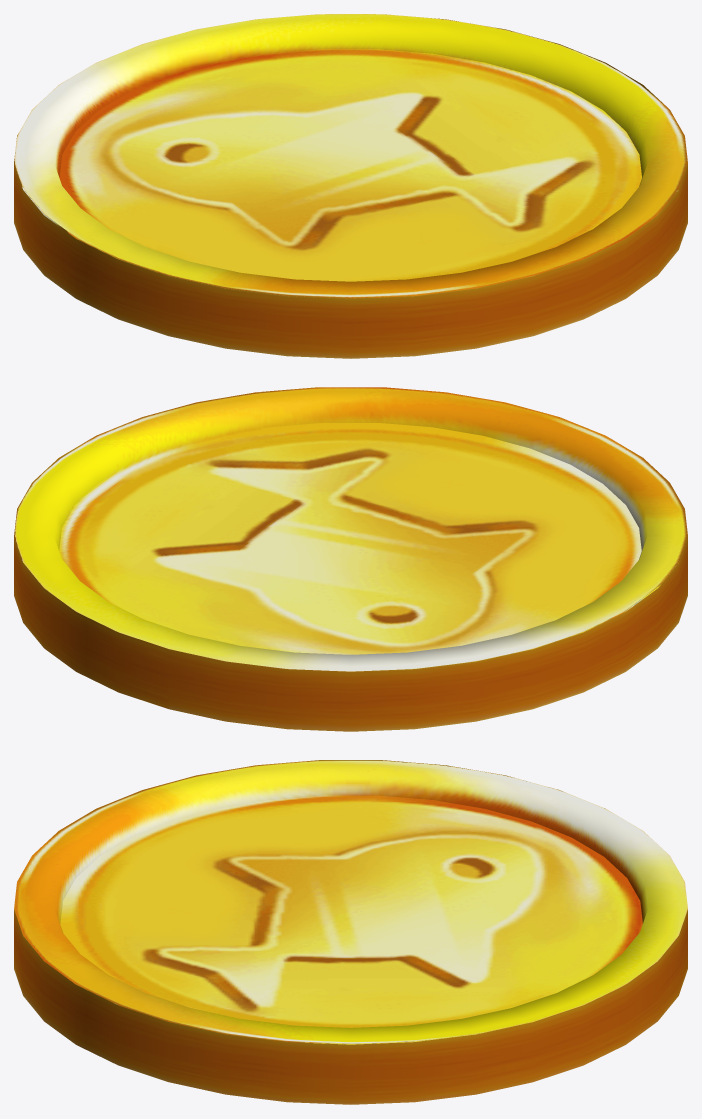
The model's file is jingbi.FBX.
The picture shows the model from 3 angles, top to bottom: view 1: azimuth 30°, elevation 25°; view 2: azimuth 150°, elevation 25°; view 3: azimuth 270°, elevation 25°; orthographic projection.
Visible parts, largest first — view 1: Cylinder002; view 2: Cylinder002; view 3: Cylinder002.
Part boxes in pixels (x1=…): Cylinder002: x1=14, y1=14, x2=687, y2=358; Cylinder002: x1=14, y1=387, x2=687, y2=731; Cylinder002: x1=14, y1=760, x2=687, y2=1104.
Bounding box in the file's own units: 28.83 × 2.84 × 28.86.
